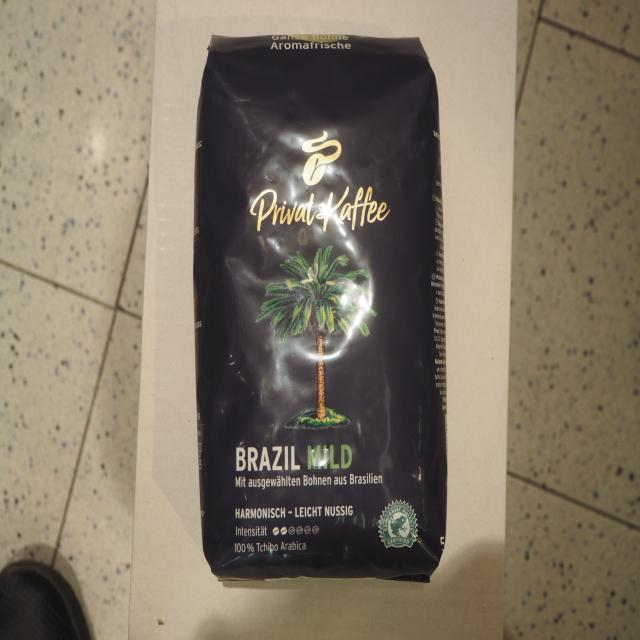BM Bohne: (190, 26, 452, 591)
